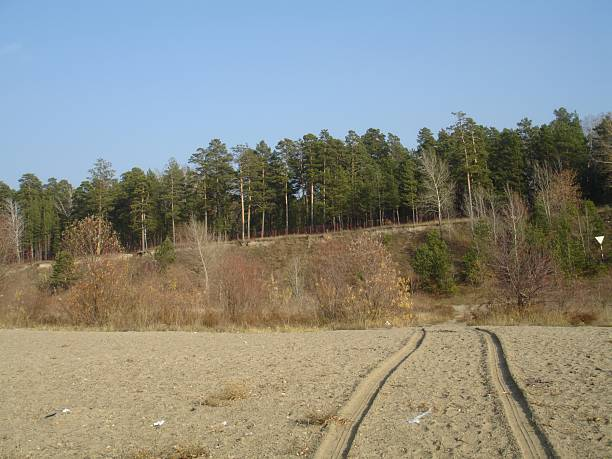vehicle_track: (315, 329, 425, 457), (475, 328, 554, 458)
